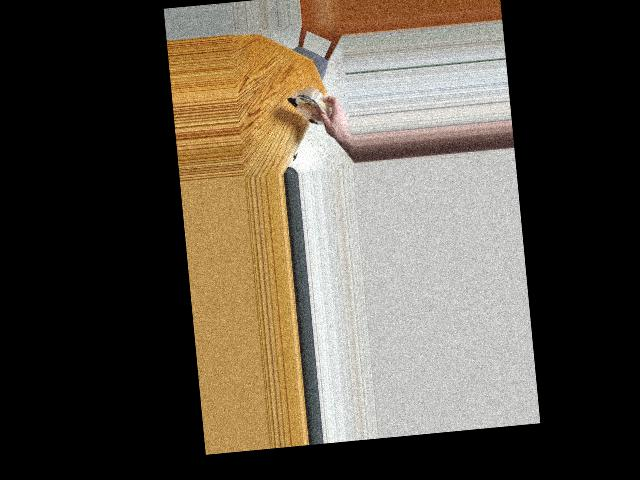cheese: (286, 78, 332, 140)
